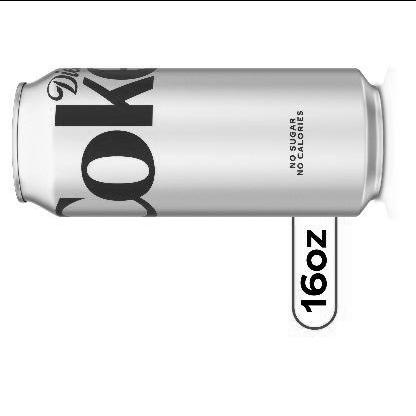alumunium_can: (10, 64, 387, 217)
